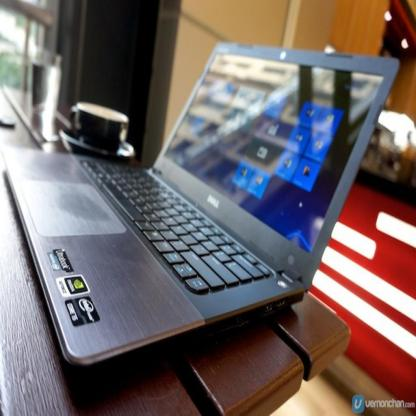board: (16, 34, 384, 385), (31, 50, 62, 136)
